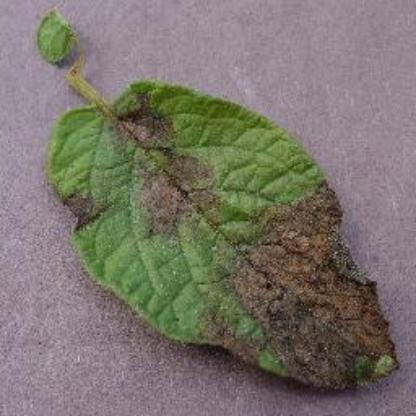Late-Blight: (29, 39, 412, 415)
